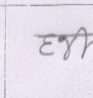i_matra: (78, 26, 90, 58)
